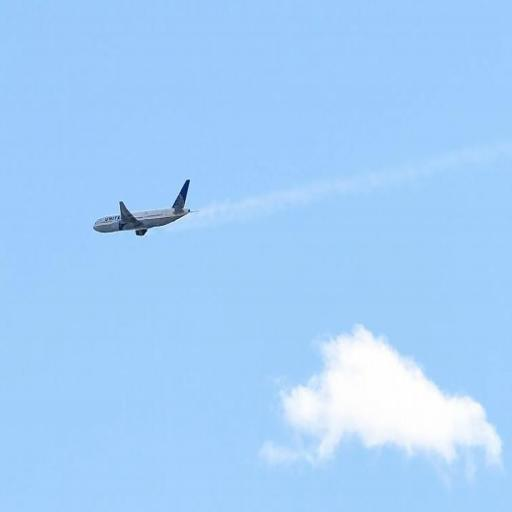aircraft: (91, 174, 201, 246)
